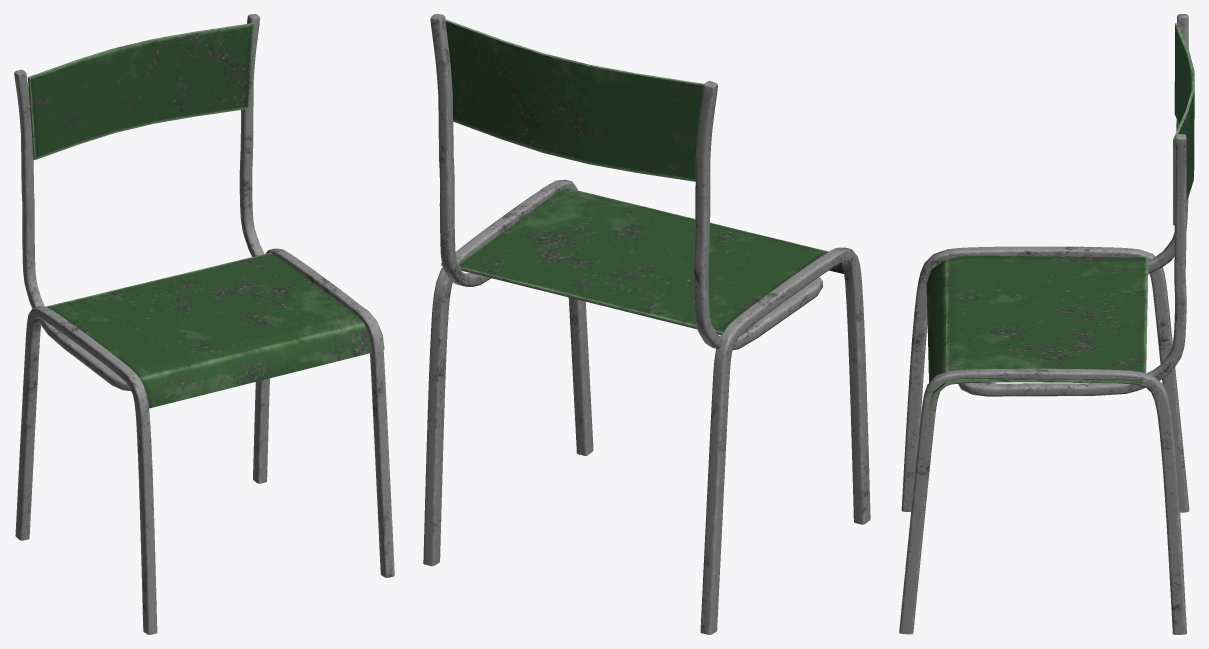
The model's file is chair.glb.
3 renders of one model, left to right at view 1: azimuth 30°, elevation 25°; view 2: azimuth 150°, elevation 25°; view 3: azimuth 270°, elevation 25°, orthographic. The views are drawn at different scales.
Visible parts, largest first — view 1: seat, back, foot_left1, back_leaning; view 2: seat, back, foot_left1, back_leaning; view 3: seat, foot_left1, back_leaning, back.
Boxes of the visible parts, left/top/right/bottom form: seat: left=45, top=249, right=384, bottom=408; back: left=27, top=23, right=254, bottom=159; foot_left1: left=15, top=248, right=394, bottom=634; back_leaning: left=14, top=14, right=264, bottom=390; seat: left=441, top=187, right=843, bottom=335; back: left=445, top=19, right=703, bottom=181; foot_left1: left=423, top=179, right=870, bottom=634; back_leaning: left=430, top=14, right=822, bottom=350; seat: left=926, top=255, right=1148, bottom=407; foot_left1: left=899, top=246, right=1189, bottom=634; back_leaning: left=958, top=14, right=1188, bottom=396; back: left=1173, top=23, right=1194, bottom=225.
Size of the model in its own units: 0.5332 by 0.948 by 0.5132.
1 material, 1 textured.
